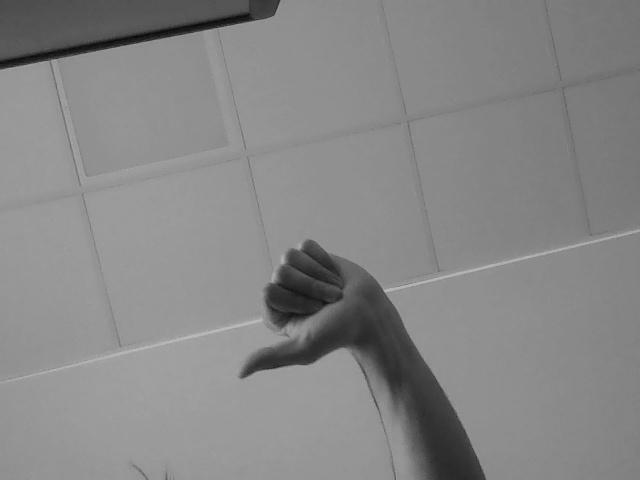bad: (211, 224, 405, 396)
